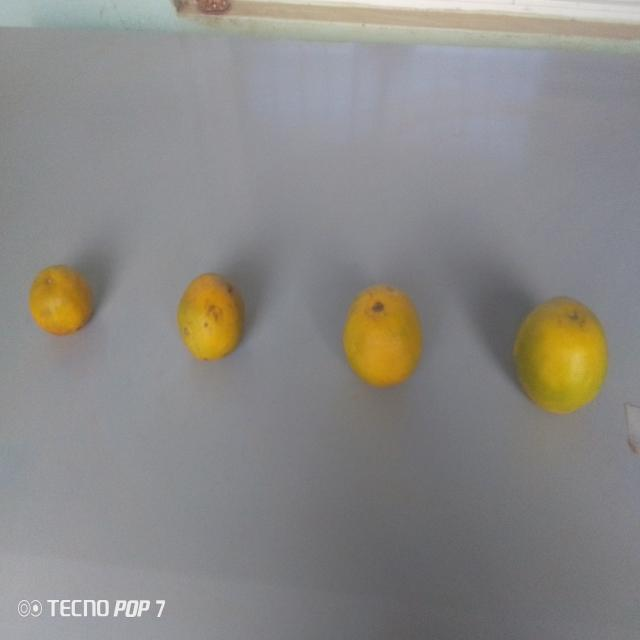Ripe orange: (514, 273, 611, 413), (342, 272, 423, 389), (174, 265, 248, 365), (30, 259, 92, 348)
